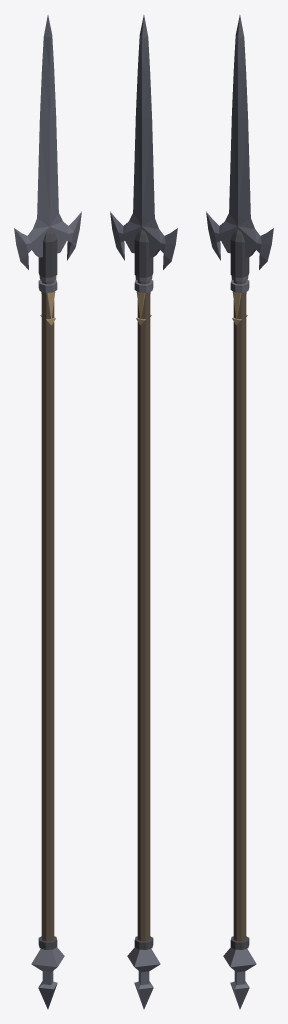
The model's file is Lanca_A03.fbx.
3 renders of one model, left to right at view 1: azimuth 30°, elevation 25°; view 2: azimuth 150°, elevation 25°; view 3: azimuth 330°, elevation 25°, orthographic.
Visible parts, largest first — view 1: polearm_3; view 2: polearm_3; view 3: polearm_3.
Part boxes in pixels (bbox=[...]): polearm_3: bbox=[14, 15, 81, 1009]; polearm_3: bbox=[110, 15, 177, 1009]; polearm_3: bbox=[206, 15, 273, 1009].
Bounding box in the file's own units: 14.65 × 206 × 7.25.
